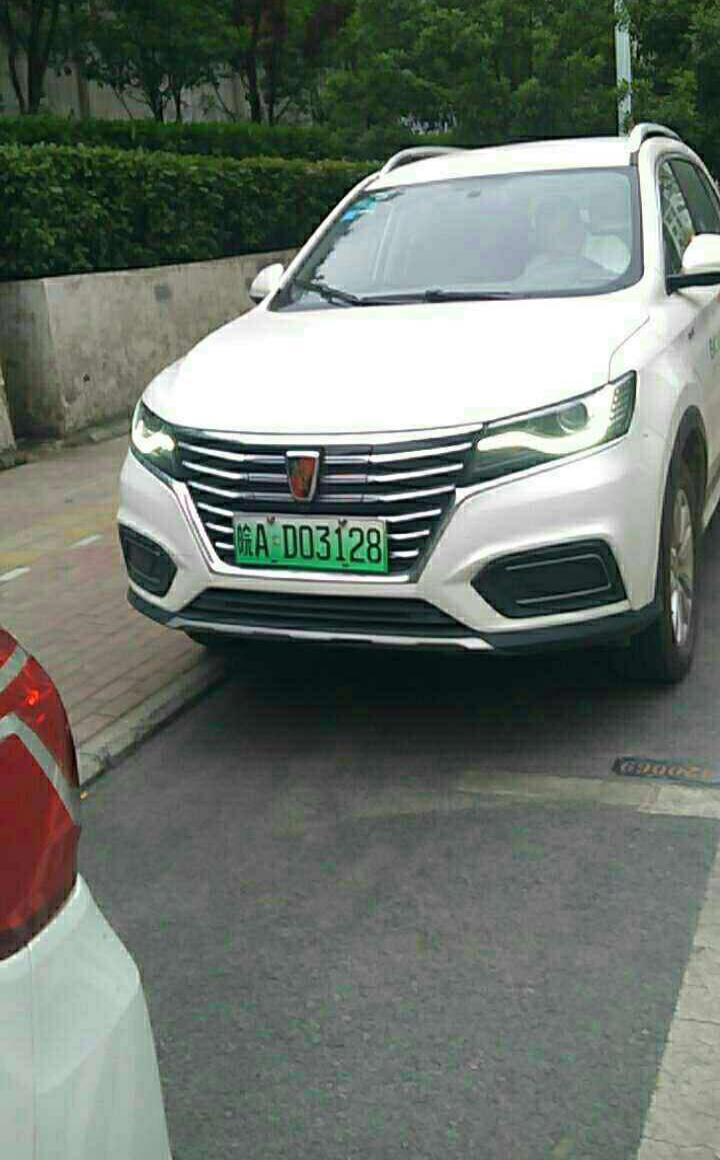car_id: (231, 514, 384, 572)
